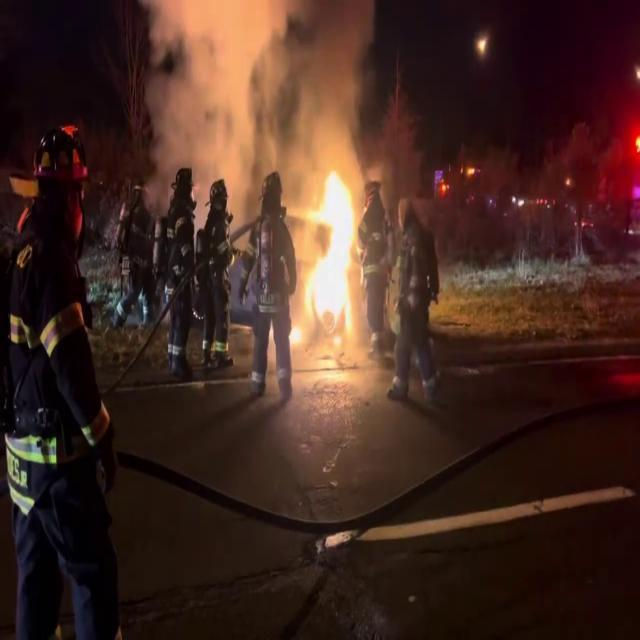Fire: (292, 161, 368, 347)
Smoke: (142, 1, 390, 190)
